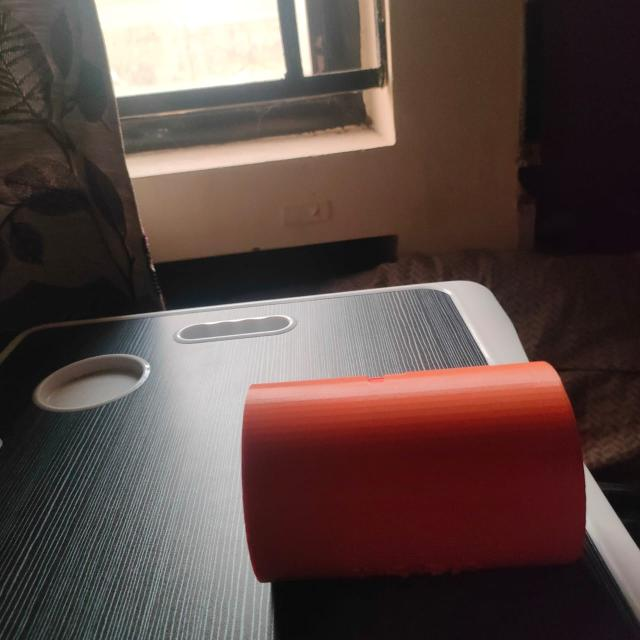Cylinder: (241, 358, 587, 584)
